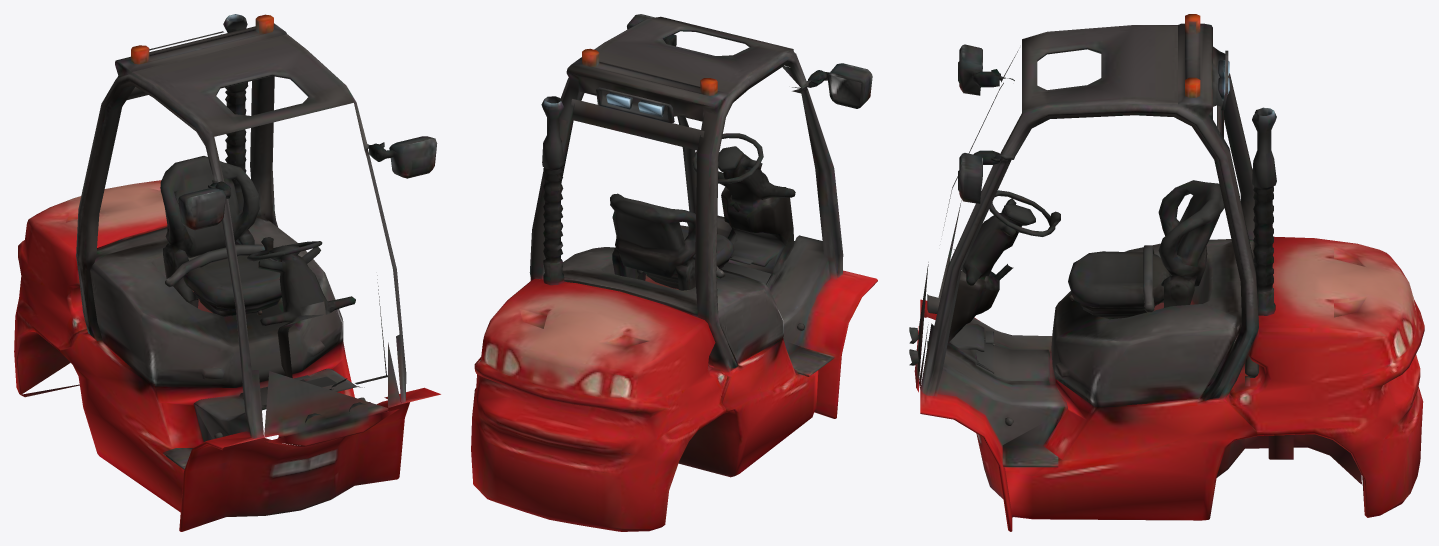
3 views of the same model, side by side, from view 1: azimuth 30°, elevation 25°; view 2: azimuth 150°, elevation 25°; view 3: azimuth 270°, elevation 25° (orthographic). The views are drawn at different scales.
Visible parts, largest first — view 1: tripo_node_baf2abcc-fc25-43e3-b005-6cbefaf4c131, steer; view 2: tripo_node_baf2abcc-fc25-43e3-b005-6cbefaf4c131, steer; view 3: tripo_node_baf2abcc-fc25-43e3-b005-6cbefaf4c131, steer.
Part boxes in pixels (x1=…): tripo_node_baf2abcc-fc25-43e3-b005-6cbefaf4c131: x1=14, y1=14, x2=440, y2=531; steer: x1=247, y1=237, x2=322, y2=287; tripo_node_baf2abcc-fc25-43e3-b005-6cbefaf4c131: x1=471, y1=14, x2=877, y2=531; steer: x1=692, y1=133, x2=763, y2=183; tripo_node_baf2abcc-fc25-43e3-b005-6cbefaf4c131: x1=909, y1=14, x2=1424, y2=531; steer: x1=983, y1=190, x2=1060, y2=250.
Size of the model in its own units: 1.23 by 1.92 by 2.11.
Materials: 1 (1 with a texture image).
